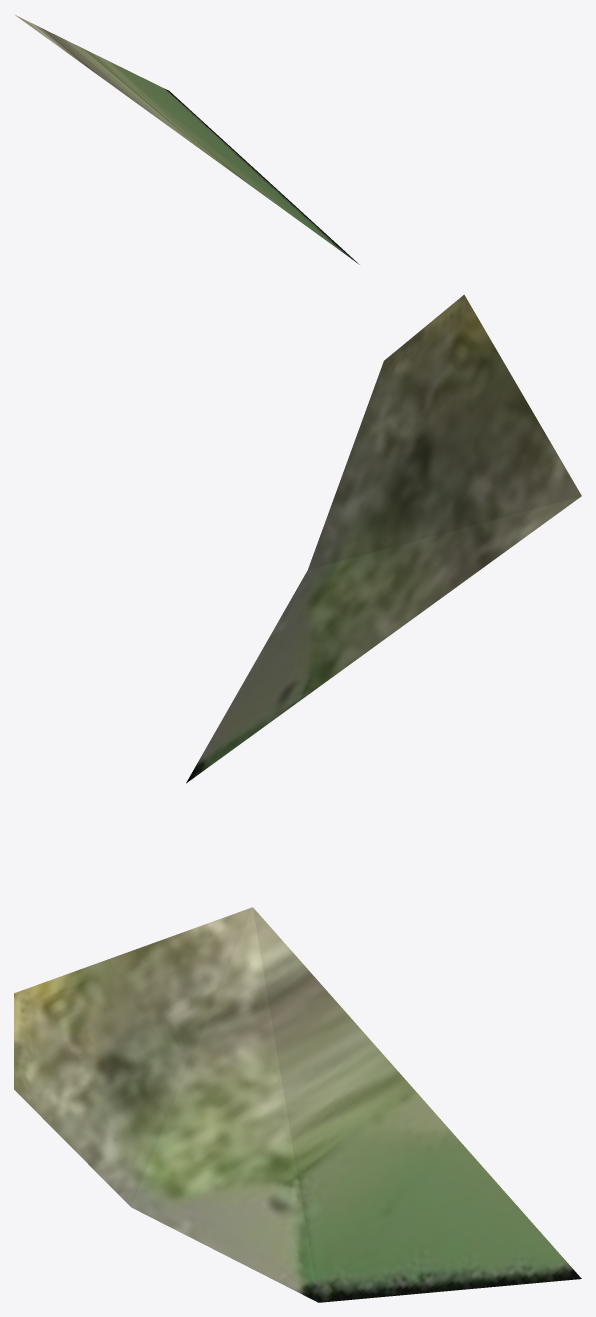
3 renders of one model, top to bottom at view 1: azimuth 30°, elevation 25°; view 2: azimuth 150°, elevation 25°; view 3: azimuth 270°, elevation 25°, orthographic. The views are drawn at different scales.
Size of the model in its own units: 3.3 by 3.24 by 5.97.
Materials: 1 (1 with a texture image).
